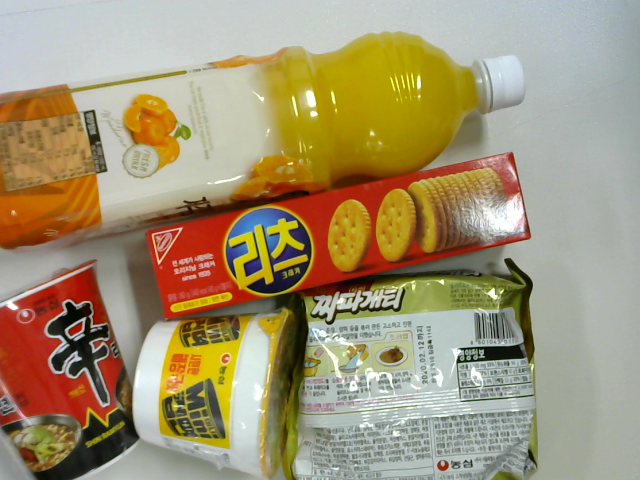Hejangmini: (133, 312, 295, 480)
Jeju_Tangerine_1.5L: (1, 32, 529, 248)
Olive_Chapaghetti: (293, 270, 547, 480)
Ritz_Cracker: (139, 152, 531, 320)
Sinramen_small: (5, 260, 143, 480)
